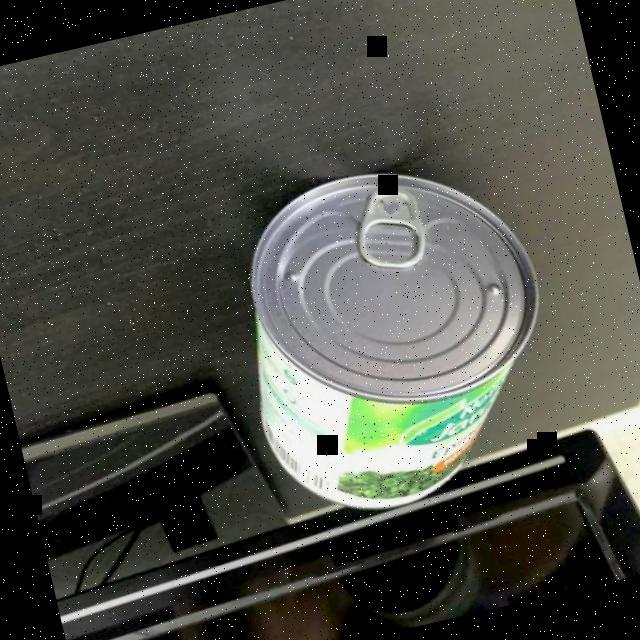can: (204, 135, 582, 535)
